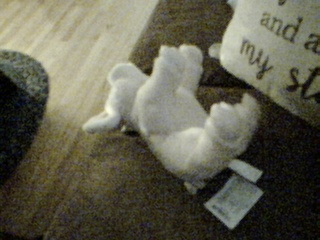piggy: (82, 42, 260, 195)
